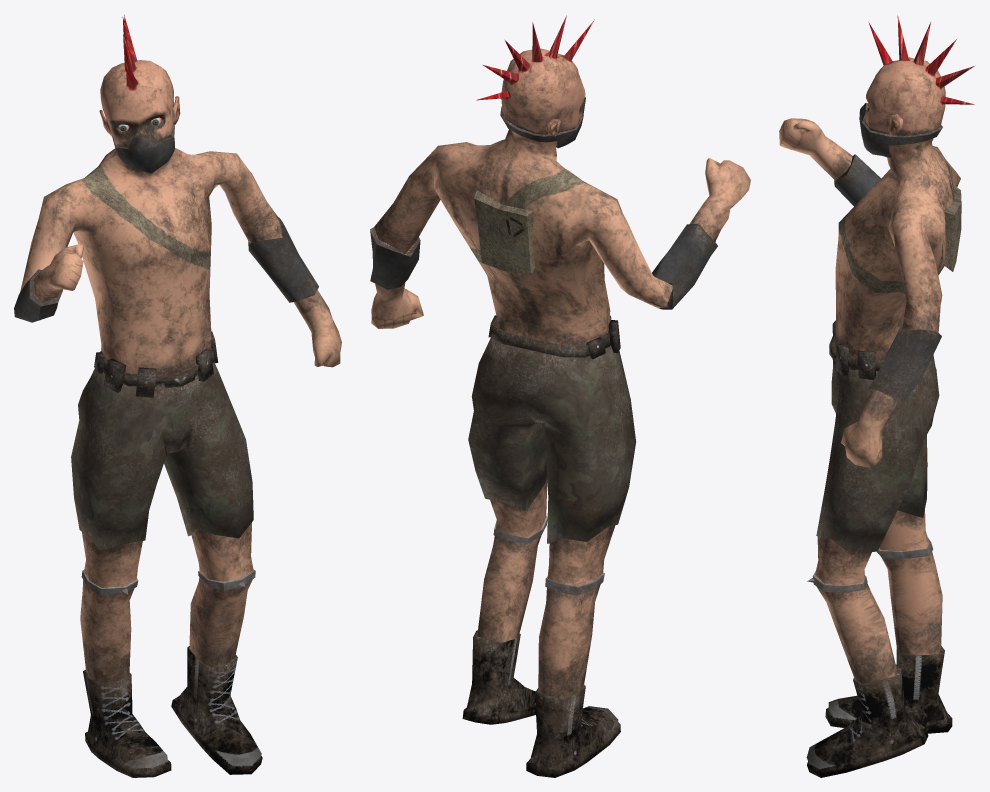
File: Anim_perder_1_npc2.0021.obj
The picture shows the model from 3 angles, left to right: view 1: azimuth 30°, elevation 25°; view 2: azimuth 150°, elevation 25°; view 3: azimuth 270°, elevation 25°; orthographic projection. The views are drawn at different scales.
Visible parts, largest first — view 1: polySurface1; view 2: polySurface1; view 3: polySurface1.
Boxes of the visible parts, box(x1,y1,x2,y2) form: polySurface1: box(14, 14, 341, 777); polySurface1: box(370, 15, 750, 777); polySurface1: box(779, 15, 974, 777).
Bounding box in the file's own units: 4.79 × 10.17 × 2.52.
2 materials, 2 textured.
